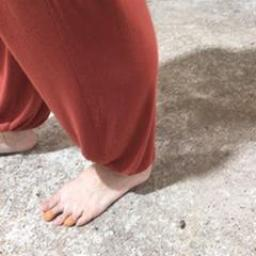Lateral View -Left Foot-: (36, 146, 166, 231)
